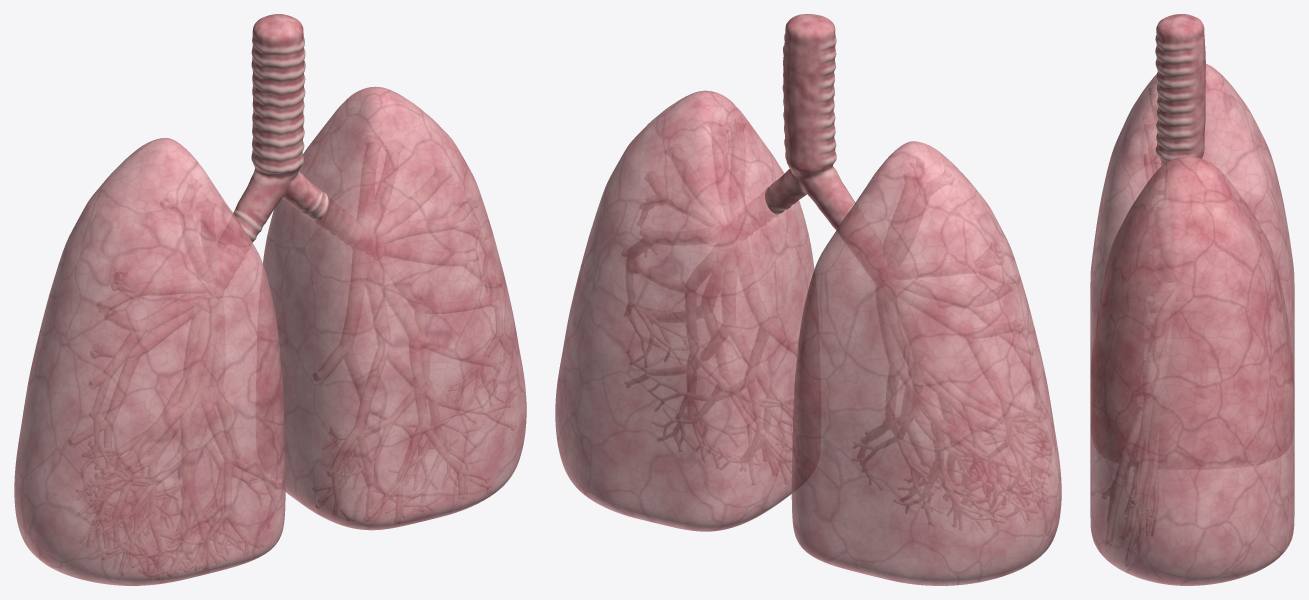
Rendered from poumons_maladies.glb.
3 views of the same model, side by side, from view 1: azimuth 30°, elevation 25°; view 2: azimuth 150°, elevation 25°; view 3: azimuth 270°, elevation 25° (orthographic). The views are drawn at different scales.
Visible parts, largest first — view 1: Poumon_Sain, Poumon_Altere, Bronches_Sain, Bronches_Altere, Voies_Aeriennes; view 2: Poumon_Sain, Poumon_Altere, Bronches_Sain, Bronches_Altere, Voies_Aeriennes; view 3: Poumon_Altere, Poumon_Sain, Bronches_Altere, Voies_Aeriennes, Bronches_Sain.
Boxes of the visible parts, x1=… form: Poumon_Sain: x1=14, y1=138, x2=285, y2=585; Poumon_Altere: x1=263, y1=86, x2=526, y2=530; Bronches_Sain: x1=69, y1=179, x2=281, y2=578; Bronches_Altere: x1=313, y1=135, x2=516, y2=522; Voies_Aeriennes: x1=198, y1=14, x2=385, y2=312; Poumon_Sain: x1=791, y1=141, x2=1061, y2=585; Poumon_Altere: x1=555, y1=90, x2=814, y2=531; Bronches_Sain: x1=852, y1=158, x2=1052, y2=531; Bronches_Altere: x1=622, y1=117, x2=797, y2=484; Voies_Aeriennes: x1=714, y1=14, x2=902, y2=300; Poumon_Altere: x1=1090, y1=156, x2=1294, y2=585; Poumon_Sain: x1=1090, y1=63, x2=1294, y2=386; Bronches_Altere: x1=1102, y1=179, x2=1177, y2=565; Voies_Aeriennes: x1=1155, y1=14, x2=1205, y2=300; Bronches_Sain: x1=1143, y1=87, x2=1160, y2=181.
Bounding box in the file's own units: 0.7169 × 0.7215 × 0.2755.
Materials: 4 (2 with a texture image).
